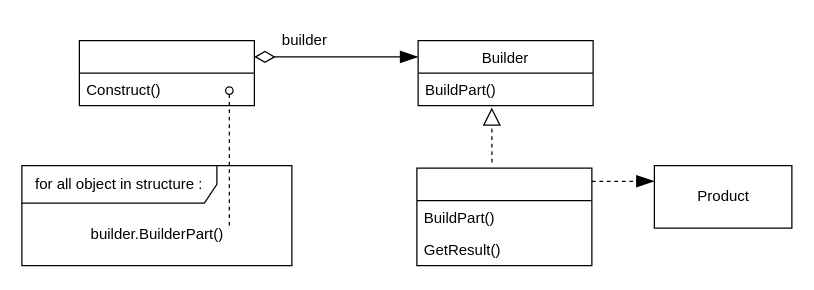
This 814x290 diagram has some shape labels left out. Here are the shapes that lost their labels. From the top down, the box of each, then its label:
(78, 39, 254, 106): Director
(416, 167, 592, 266): ConcreteBuilder
